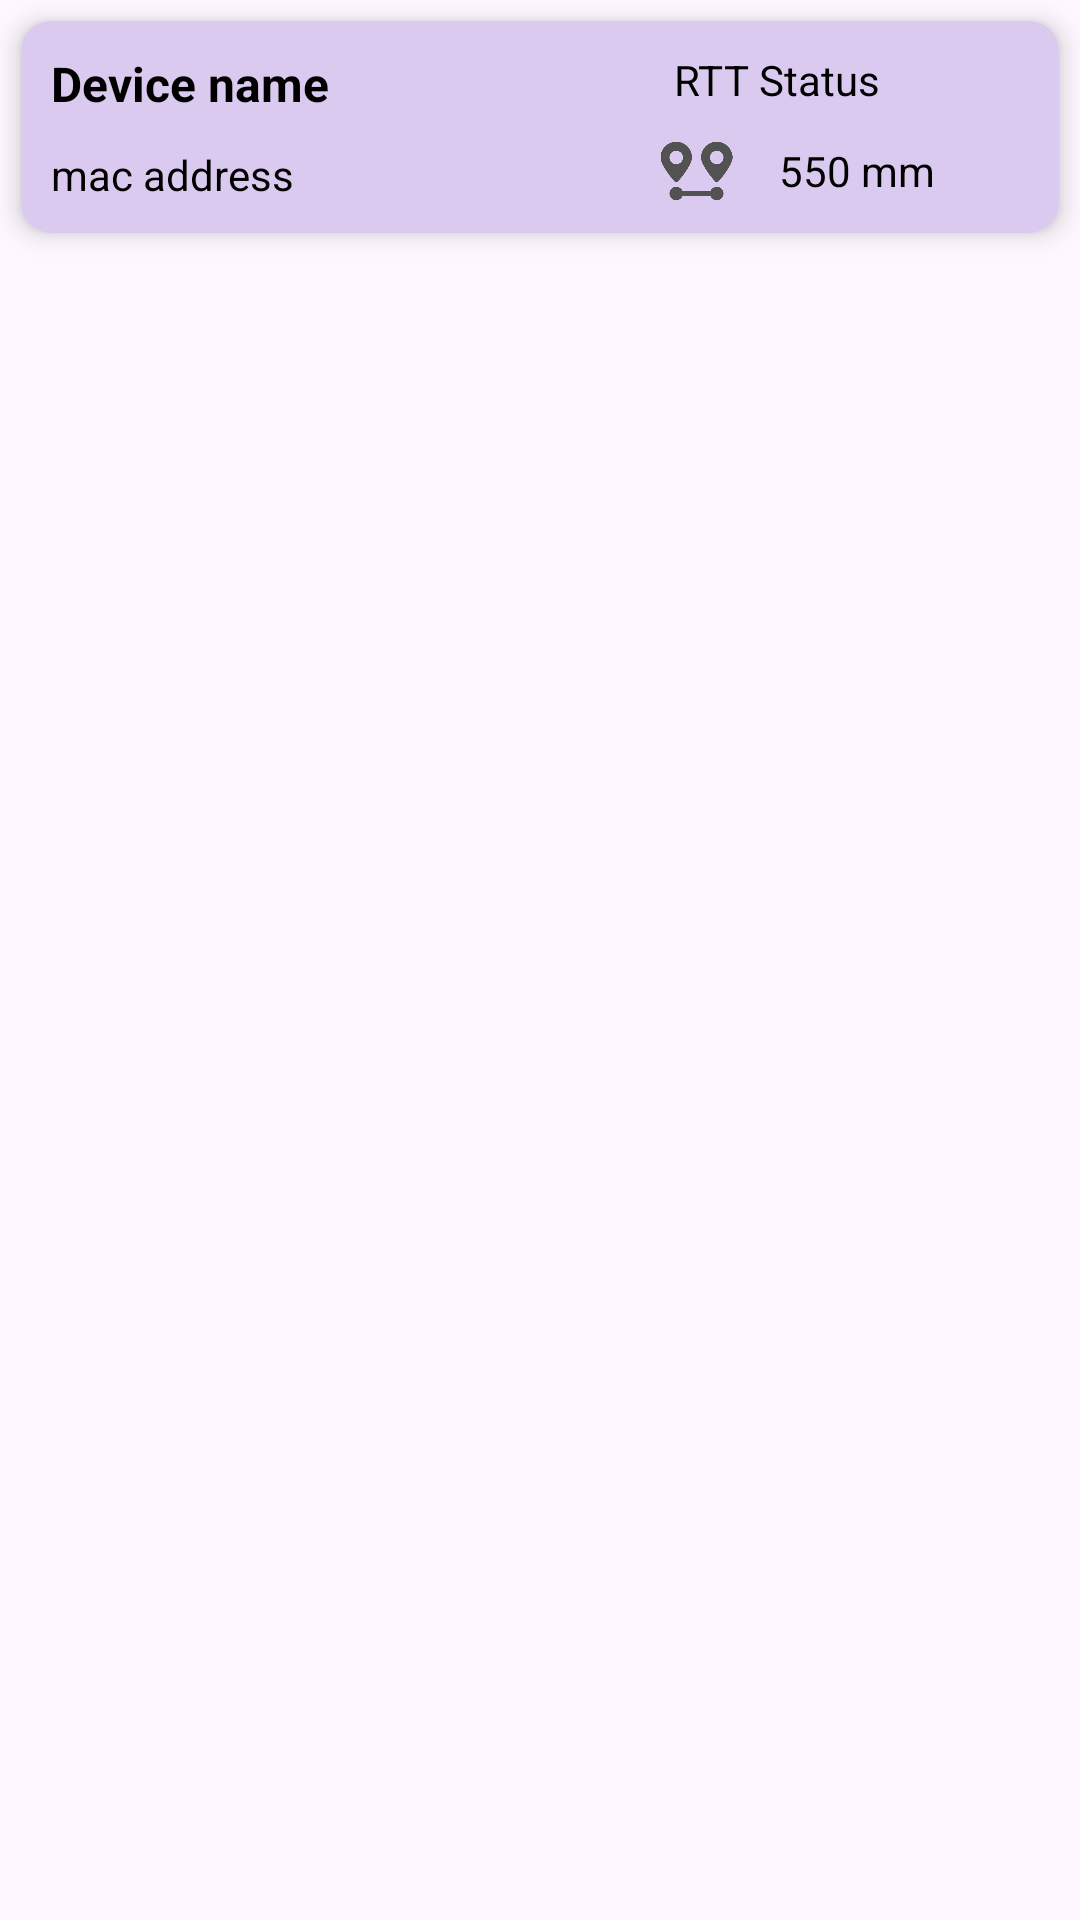

Where icons sit on this 1080*1920 app screen, as box=[x1, y1, x2, y2]:
location: box=[661, 142, 733, 200]
